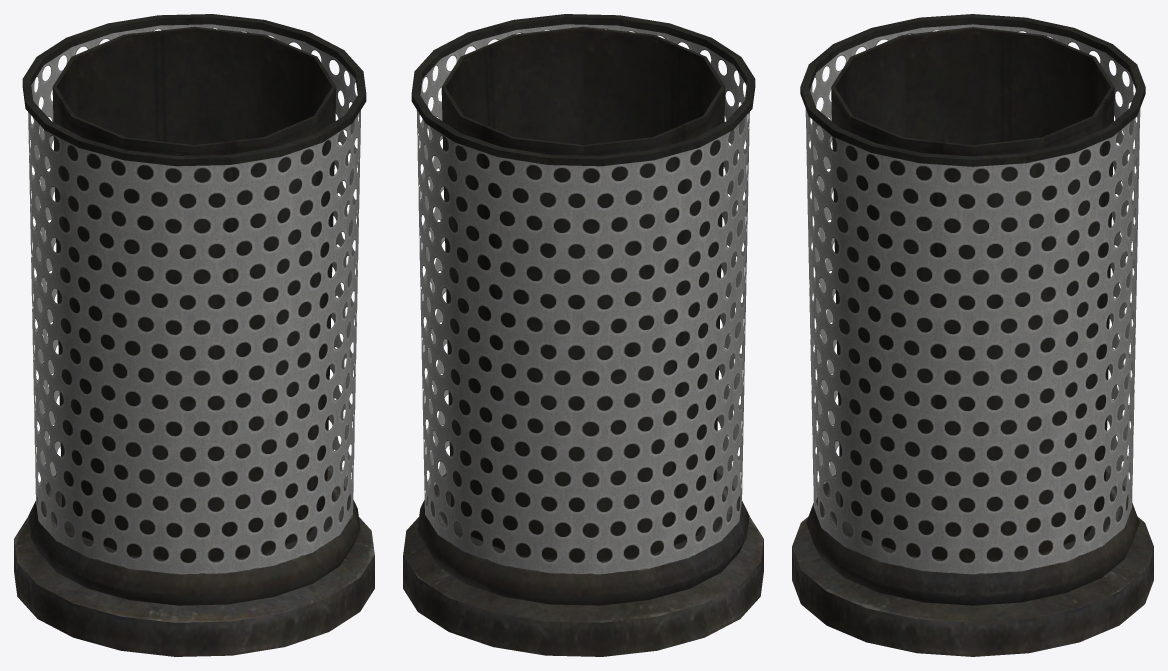
Rendered from bin.glb.
3 renders of one model, left to right at view 1: azimuth 30°, elevation 25°; view 2: azimuth 150°, elevation 25°; view 3: azimuth 270°, elevation 25°, orthographic.
Visible parts, largest first — view 1: g (×3); view 2: g (×3); view 3: g (×3).
Part boxes in pixels (x1,y1,x2,y2): g (×3): (14, 14, 374, 656); g (×3): (403, 14, 763, 656); g (×3): (792, 14, 1153, 656).
Bounding box in the file's own units: 0.6006 × 0.9038 × 0.6006.
Materials: 2 (2 with a texture image).
